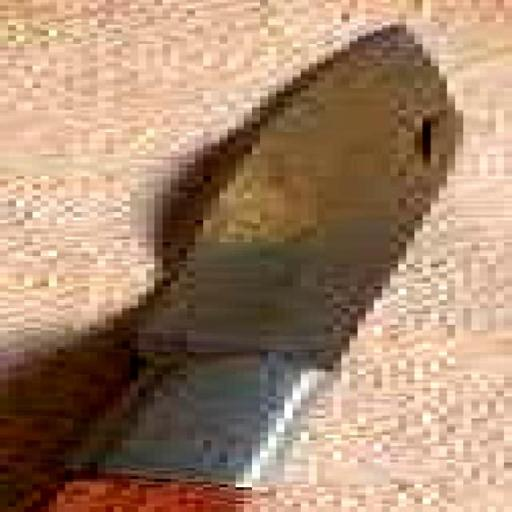knife: (61, 23, 496, 508)
